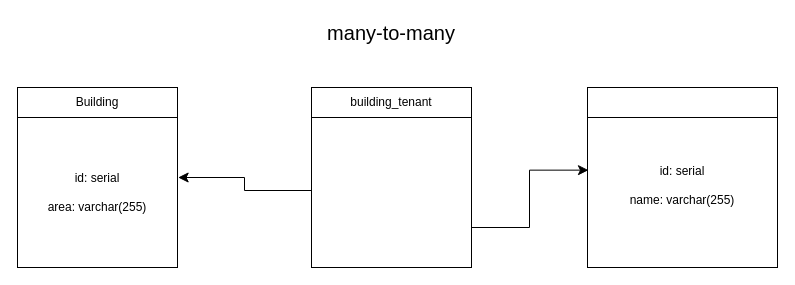
Image size: 795x285. Some labels were removed from this diagram. The shapes that lost their labels are listed below. From the top down, each one's centre as x and y in pixels, then its label:
At point (682, 102): "Tenant".
At point (391, 192): "id: serial building_id: int tenant_id: int".
